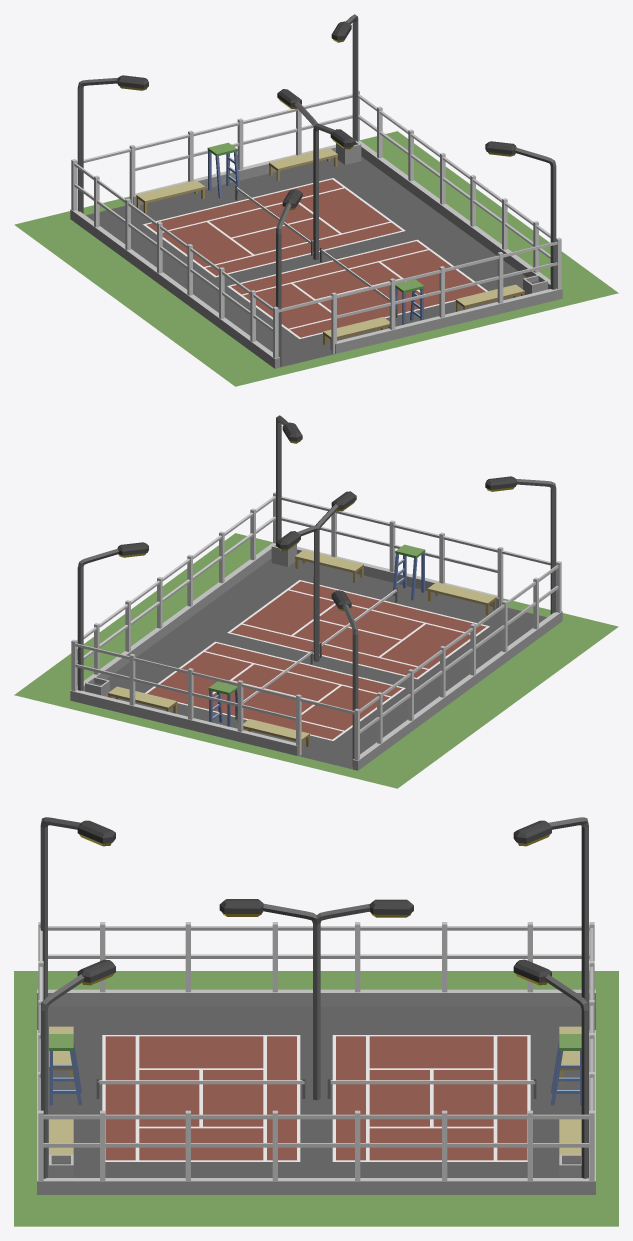
File: landscape_entertainment_007.glb
3 renders of one model, top to bottom at view 1: azimuth 30°, elevation 25°; view 2: azimuth 150°, elevation 25°; view 3: azimuth 270°, elevation 25°, orthographic. The views are drawn at different scales.
Parts seen in each view (by area): view 1: landscape_entertainment_007; view 2: landscape_entertainment_007; view 3: landscape_entertainment_007.
Part boxes in pixels (left/top/right/bottom): landscape_entertainment_007: left=14, top=14, right=618, bottom=386; landscape_entertainment_007: left=14, top=415, right=618, bottom=788; landscape_entertainment_007: left=14, top=817, right=618, bottom=1226.
Size of the model in its own units: 16 by 6.17 by 16.
Materials: 1 (1 with a texture image).
